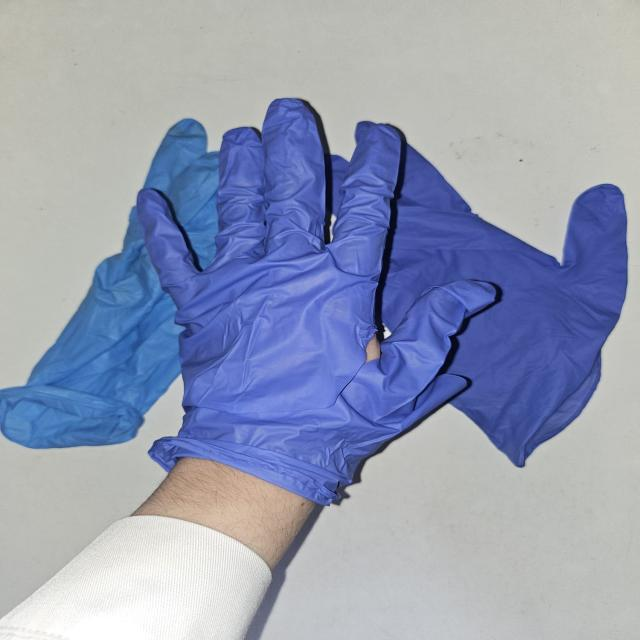gloves_damaged: (135, 95, 503, 508)
